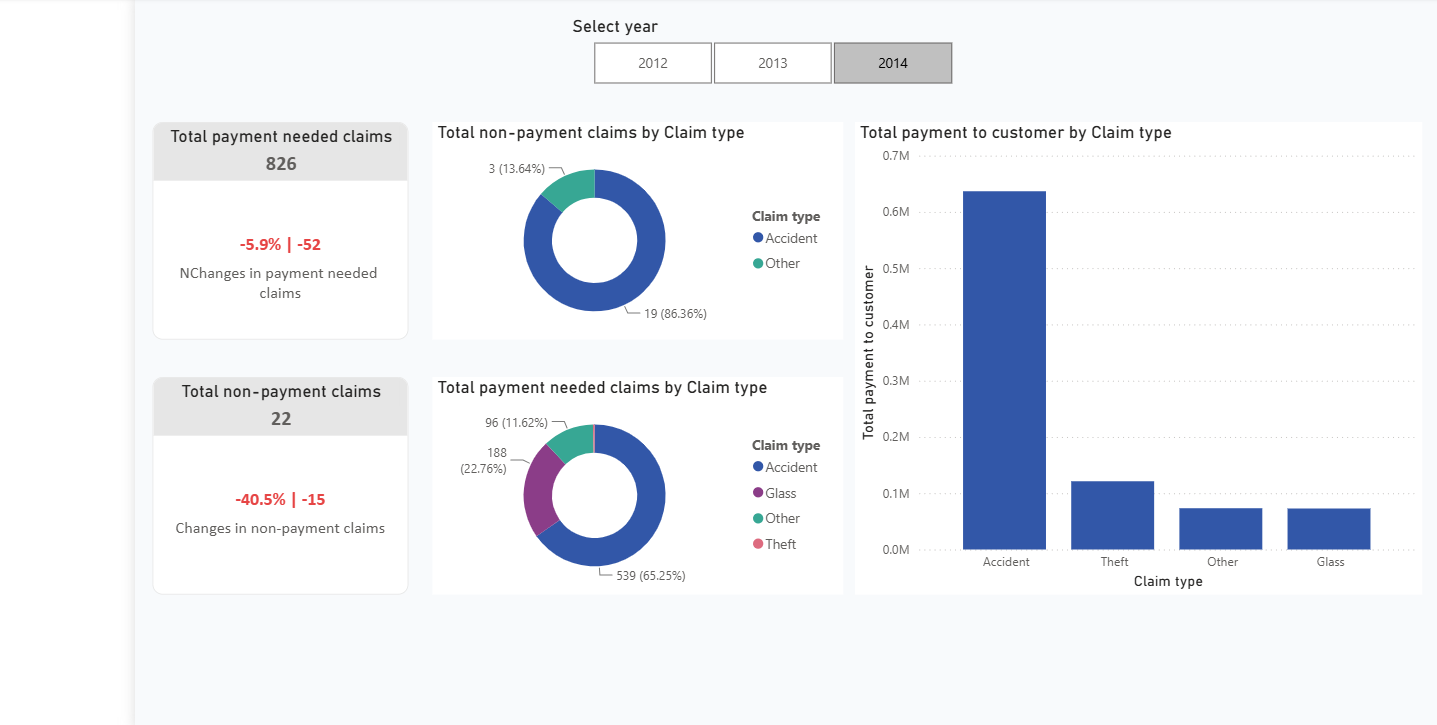

What the dashboard file says about the page in this screenshot:
{"tool":"powerbi","page":{"name":"Introduction of claims","canvas":[1280,720],"ordinal":1},"visuals":[{"type":"slicer","title":"Select year","fields":{"Values":["policies.year"]},"box":[425,18.8,401.2,73.8],"z":0},{"type":"card","title":"Total payment needed claims","fields":{"Values":["calculations.KPI Increase Number of Claims ThisYear"]},"box":[16.8,122.9,251.4,213.7],"z":1000},{"type":"card","title":"Total non-payment claims","fields":{"Values":["calculations.KPI Increase Number of Non Payment Claims ThisYear"]},"box":[16.8,372.9,251.4,213.7],"z":2000},{"type":"donutChart","fields":{"Y":["calculations.TotalNonZeroPayments"],"Category":["claims.ClaimType"]},"box":[291.9,372.9,403.6,213.7],"z":3000},{"type":"donutChart","fields":{"Y":["calculations.TotalZeroPayments"],"Category":["claims.ClaimType"]},"box":[291.9,122.9,403.6,213.7],"z":4000},{"type":"columnChart","fields":{"Category":["claims.ClaimType"],"Y":["Sum(claims.PaymentToCustomer)"]},"box":[706.6,122.9,557.2,463.6],"z":5000}]}

Visuals, with their boxes on the page's 1280x720 design canvas (x1, y1, x2, y2). These are canvas units, not pixel positions in the 1437x725 screenshot, which may show the page scaled, cropped or inside an application window:
"Select year" slicer: x1=425, y1=19, x2=826, y2=93
"Total payment needed claims" card: x1=17, y1=123, x2=268, y2=337
"Total non-payment claims" card: x1=17, y1=373, x2=268, y2=587
donutChart - calculations.TotalNonZeroPayments x claims.ClaimType: x1=292, y1=373, x2=696, y2=587
donutChart - calculations.TotalZeroPayments x claims.ClaimType: x1=292, y1=123, x2=696, y2=337
columnChart - claims.ClaimType x Sum(claims.PaymentToCustomer): x1=707, y1=123, x2=1264, y2=586
